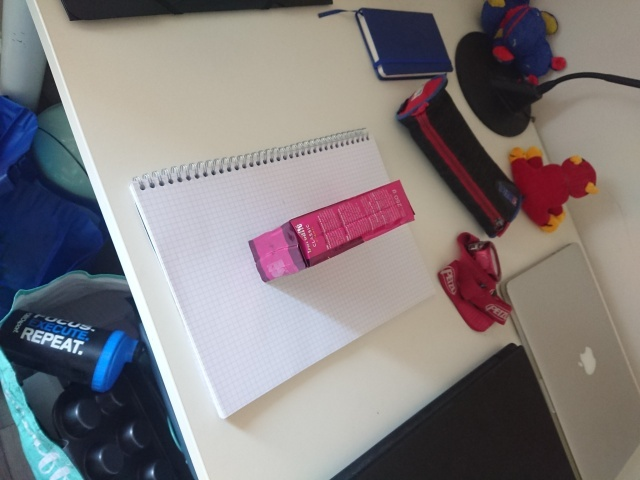Barcaffe Classic Original 225g: (246, 178, 417, 285)
